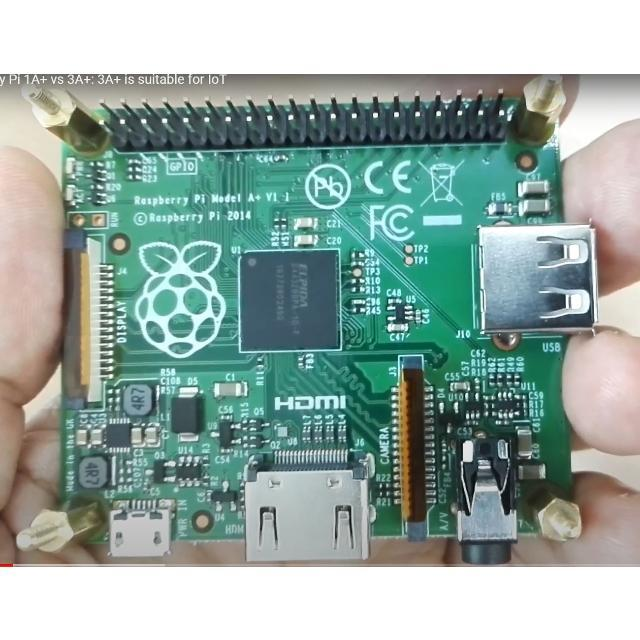Raspberry-Pi-1-A-: (61, 77, 599, 564)
